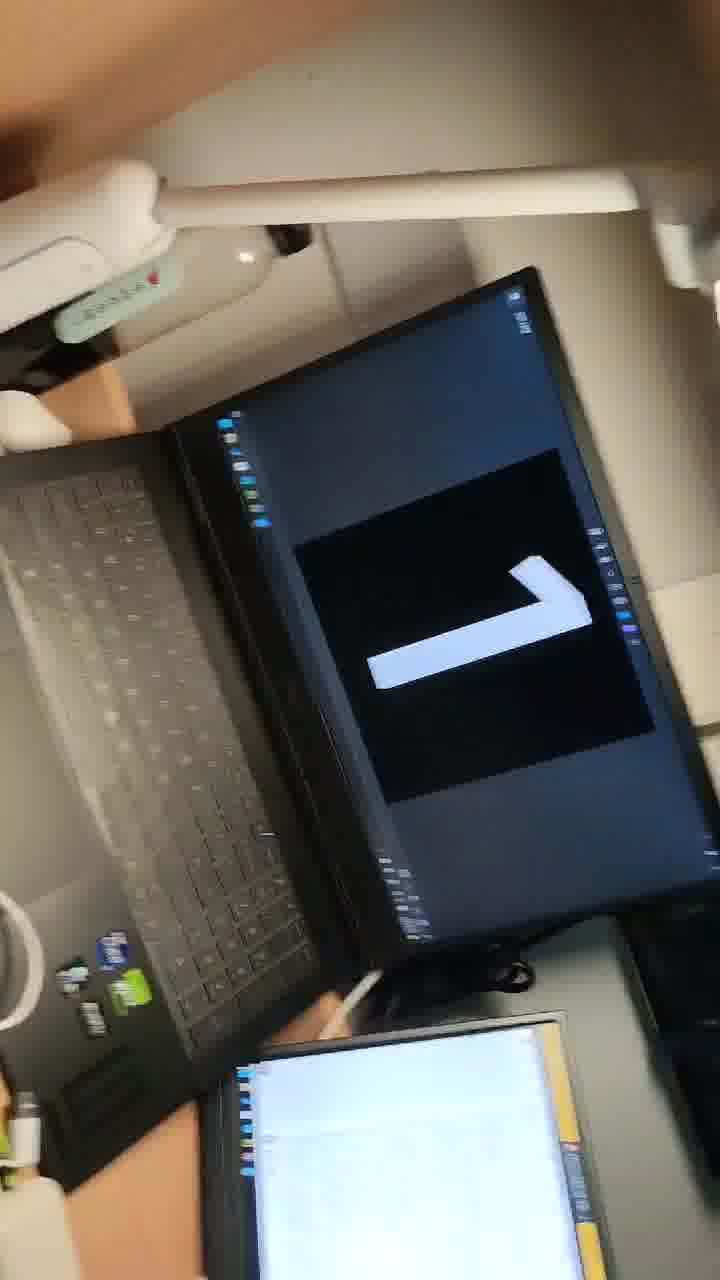one: (346, 507, 636, 789)
